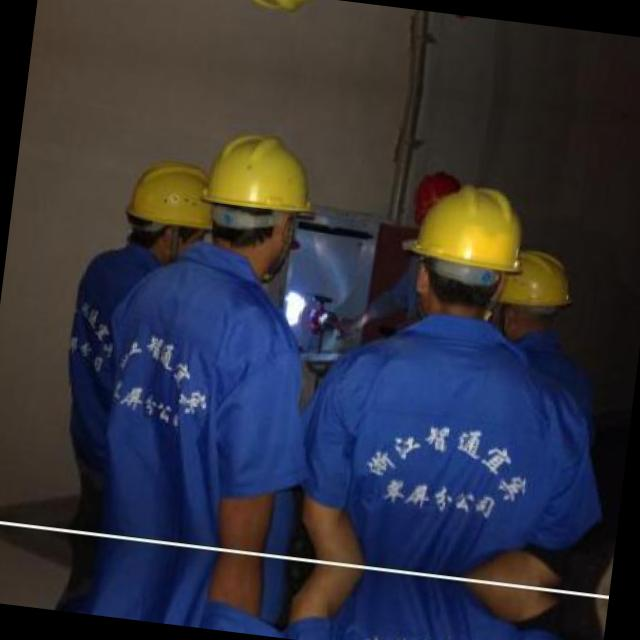helmet: (391, 171, 531, 323), (194, 125, 326, 277), (118, 148, 224, 272), (484, 241, 578, 342)
